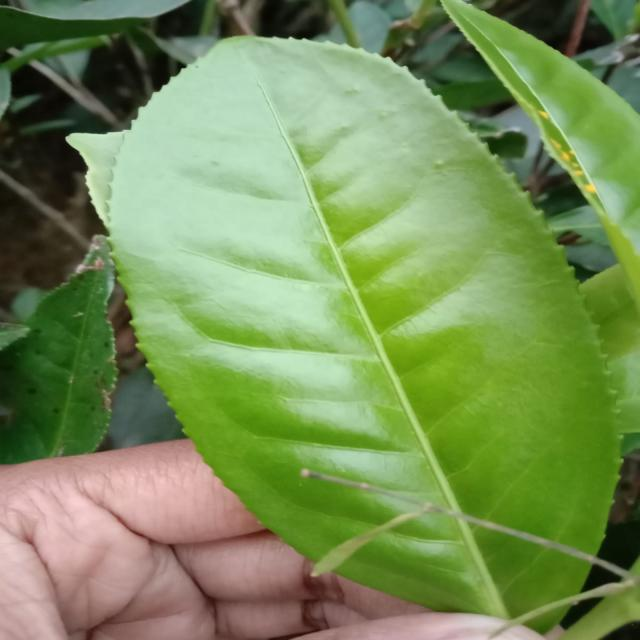Category C(4-7 days): (93, 7, 632, 635)
